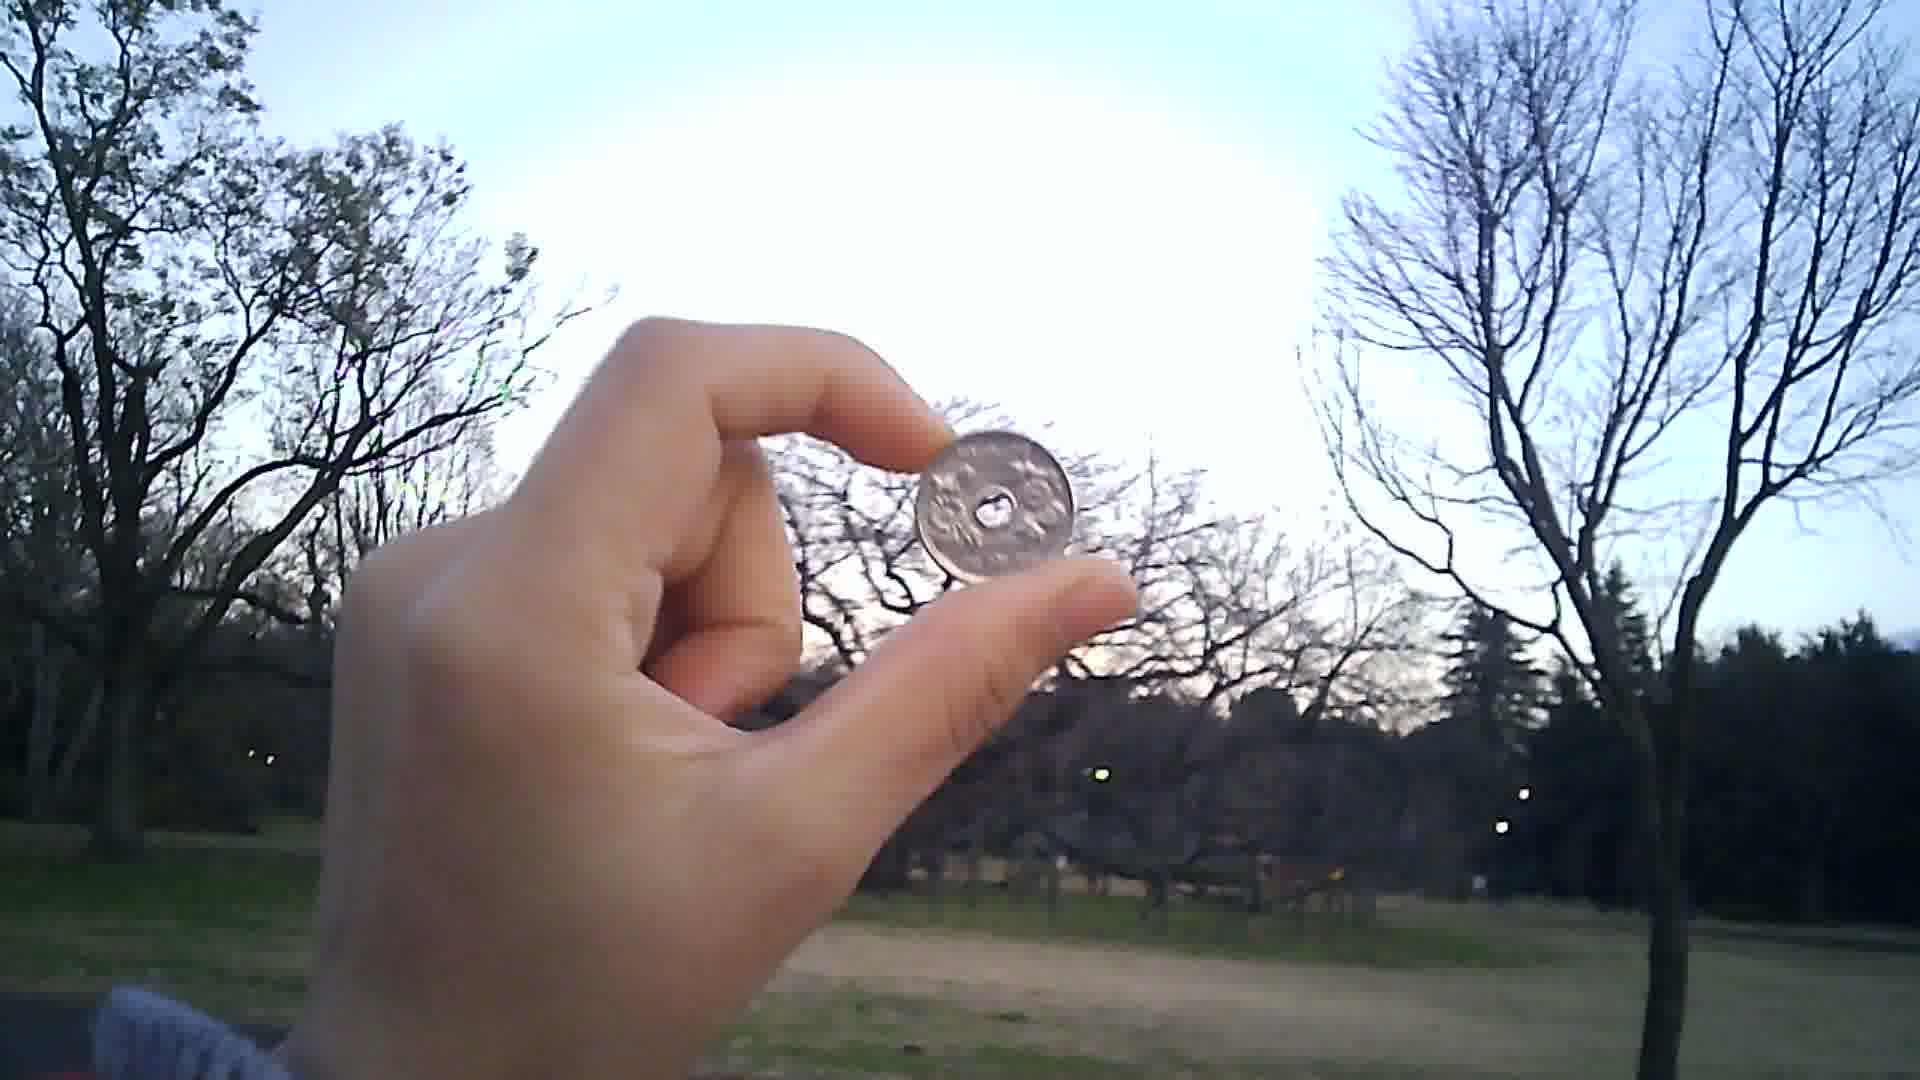50 Yen: (915, 422, 1081, 595)
